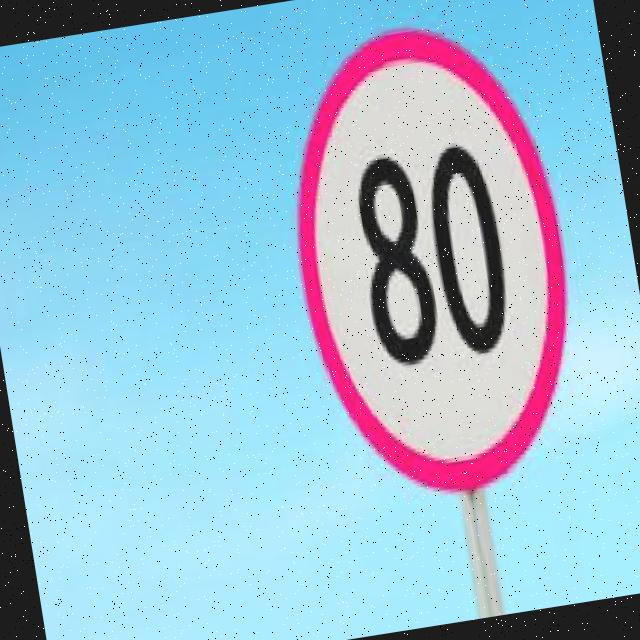Ograniczenie predkosci do 80: (265, 9, 601, 511)
